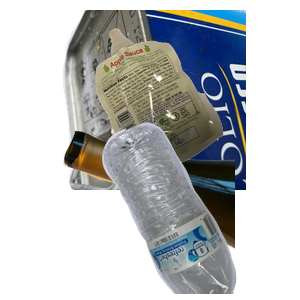glass: (60, 128, 300, 300)
metal: (60, 10, 300, 190)
plastic: (100, 120, 300, 300)
trash: (93, 26, 300, 200)
